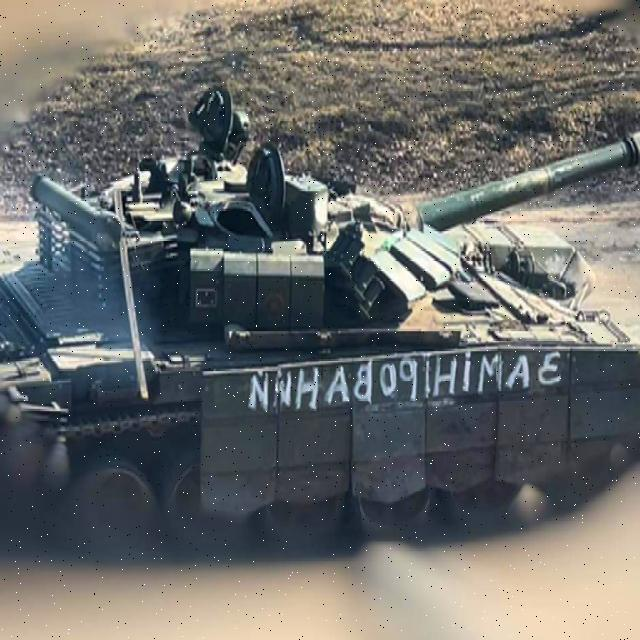TANK: (1, 82, 640, 558)
